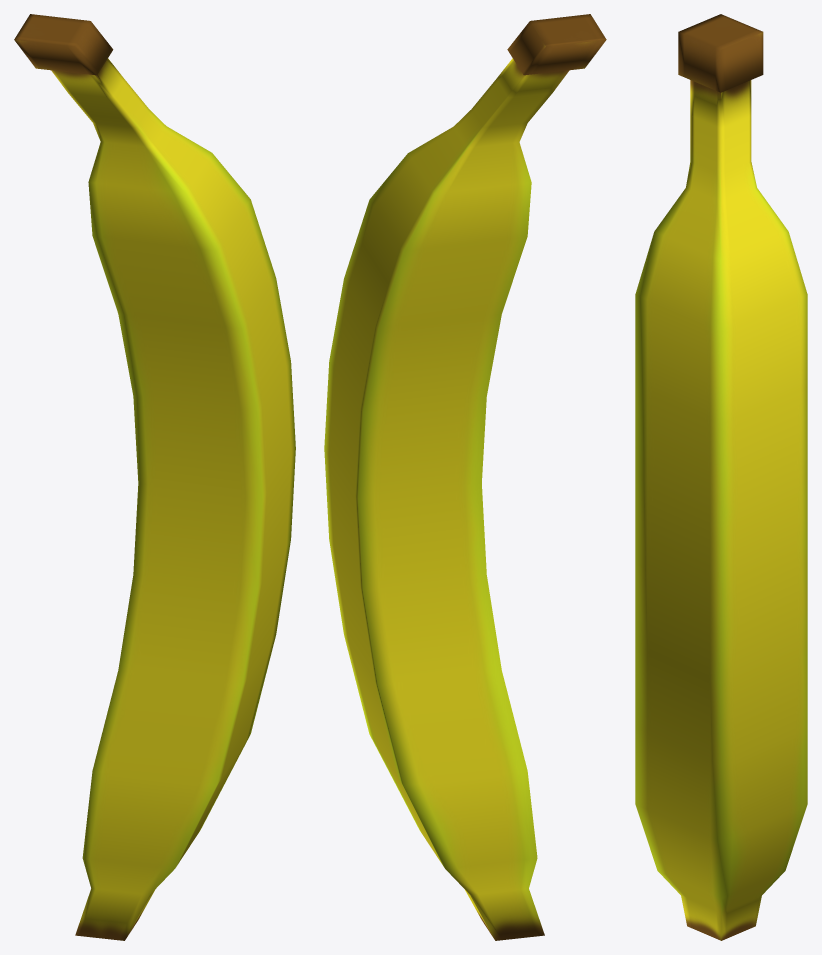
File: banana.glb
3 renders of one model, left to right at view 1: azimuth 30°, elevation 25°; view 2: azimuth 150°, elevation 25°; view 3: azimuth 270°, elevation 25°, orthographic. The views are drawn at different scales.
Visible parts, largest first — view 1: Circle; view 2: Circle; view 3: Circle.
Boxes of the visible parts, box(x1,y1,x2,y2) form: Circle: box(14, 14, 295, 940); Circle: box(324, 14, 606, 940); Circle: box(635, 14, 807, 940).
Bounding box in the file's own units: 2 × 6.19 × 1.11.
Materials: 1 (1 with a texture image).
